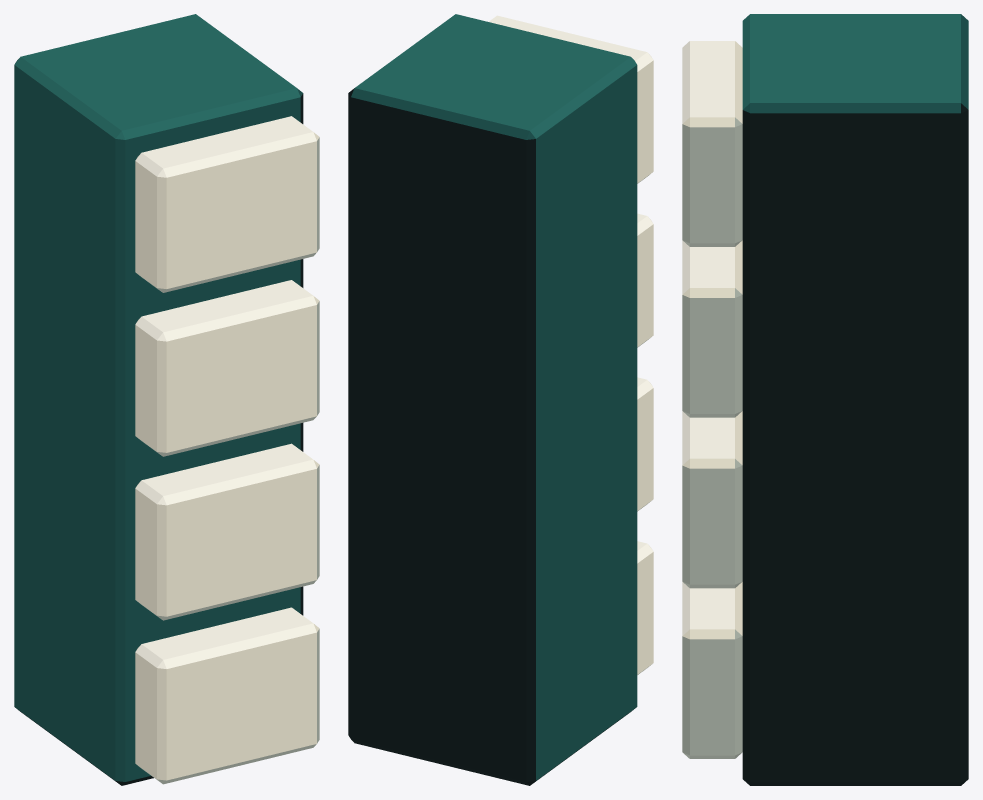
The model's file is Edge_Shutter.gltf.
The picture shows the model from 3 angles, left to right: view 1: azimuth 30°, elevation 25°; view 2: azimuth 150°, elevation 25°; view 3: azimuth 270°, elevation 25°; orthographic projection. The views are drawn at different scales.
Parts seen in each view (by area): view 1: Edge_Shutter_baked; view 2: Edge_Shutter_baked; view 3: Edge_Shutter_baked.
Boxes of the visible parts, x1,y1,x2,y2 form: Edge_Shutter_baked: (14,14,319,785); Edge_Shutter_baked: (348,14,653,785); Edge_Shutter_baked: (682,14,968,785).
Bounding box in the file's own units: 0.3 × 1 × 0.38.
